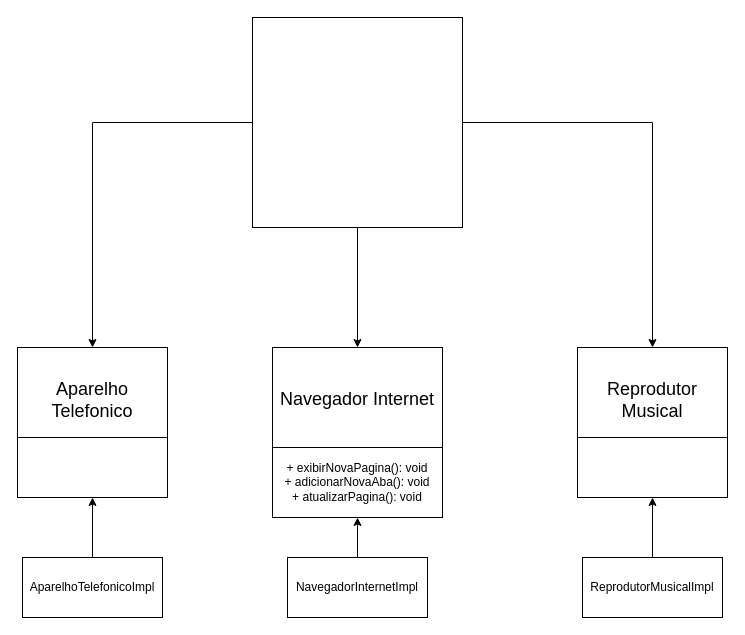
Image size: 745x635. Some labels were removed from this diagram. The shapes that lost their labels are listed below. From the top down, each one's centre as x and y in pixels, then its label:
the point at 357,122: IPHONE
the point at 92,467: + ligar(): void + atender(): void + iniciarCorreioVoz(): void
the point at 652,467: + tocar(): void + pausar(): void + selecionarMusica(): void
